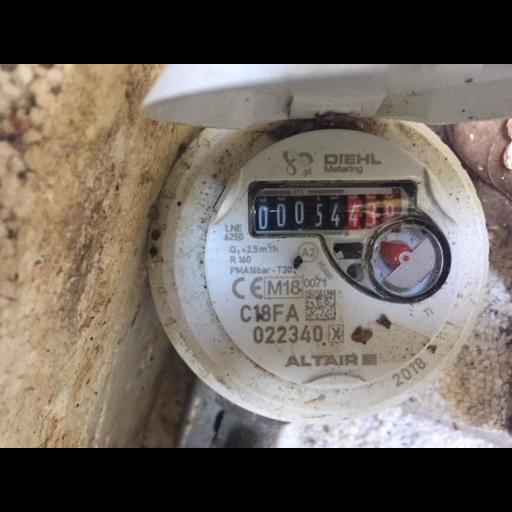0: (292, 196, 311, 230), (255, 196, 273, 230), (273, 196, 291, 230)
3: (365, 195, 382, 232)
4: (347, 196, 365, 231), (330, 196, 347, 231)
5: (311, 196, 330, 230)
9: (380, 189, 403, 224)
border_water_meter_number: (248, 178, 417, 238)
